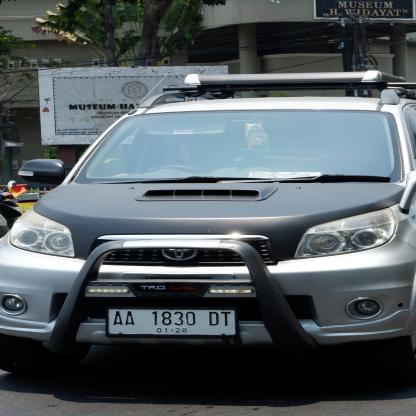Plat-Nomor: (101, 306, 242, 340)
